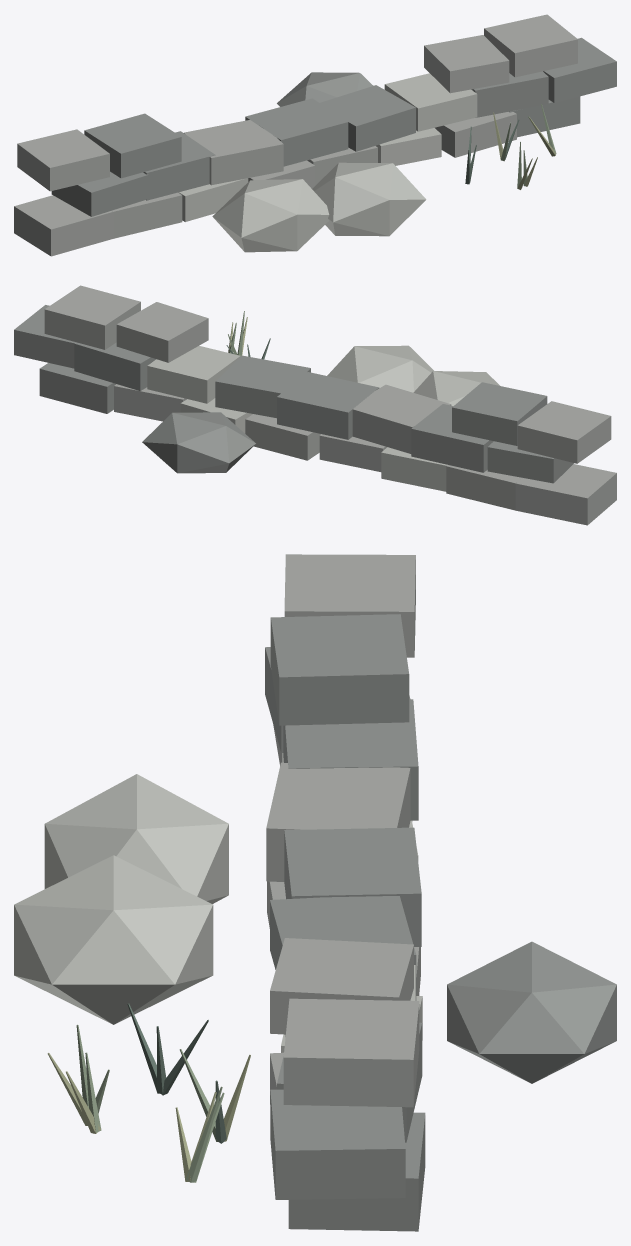
The model's file is collapsed_fieldwall.glb.
3 renders of one model, top to bottom at view 1: azimuth 30°, elevation 25°; view 2: azimuth 150°, elevation 25°; view 3: azimuth 270°, elevation 25°, orthographic. The views are drawn at different scales.
Visible parts, largest first — view 1: material_00, material_02, material_01, material_04, material_05, material_03; view 2: material_02, material_00, material_01; view 3: material_02, material_00, material_01, material_04, material_05, material_03.
Part boxes in pixels (x1,y1,x2,y2): material_00: [14, 14, 577, 256]; material_02: [51, 37, 616, 216]; material_01: [178, 73, 477, 252]; material_04: [501, 104, 556, 188]; material_05: [493, 112, 555, 189]; material_03: [465, 119, 519, 184]; material_02: [14, 305, 573, 483]; material_00: [44, 285, 616, 525]; material_01: [147, 345, 499, 491]; material_02: [265, 614, 616, 1231]; material_00: [266, 554, 420, 1107]; material_01: [14, 774, 422, 1052]; material_04: [76, 1024, 224, 1182]; material_05: [47, 1053, 250, 1182]; material_03: [127, 1003, 226, 1143].
Size of the model in its own units: 2.77 by 0.4431 by 1.3.
